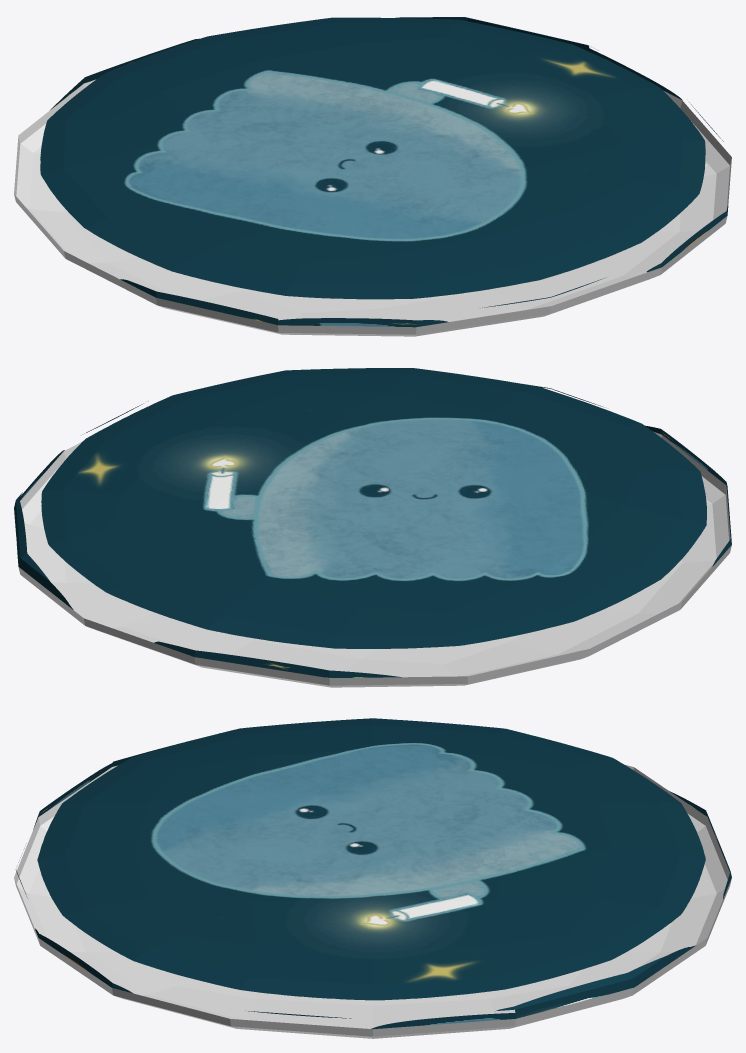
Rendered from ghost.fbx.
3 views of the same model, one above another, from view 1: azimuth 30°, elevation 25°; view 2: azimuth 150°, elevation 25°; view 3: azimuth 270°, elevation 25° (orthographic).
Visible parts, largest first — view 1: tribalPog; view 2: tribalPog; view 3: tribalPog.
Part boxes in pixels (left/top/right/bottom): tribalPog: left=14, top=17, right=731, bottom=336; tribalPog: left=14, top=368, right=731, bottom=687; tribalPog: left=14, top=718, right=731, bottom=1038.
Bounding box in the file's own units: 92.8 × 8.9 × 92.8.
Materials: 2 (1 with a texture image).
